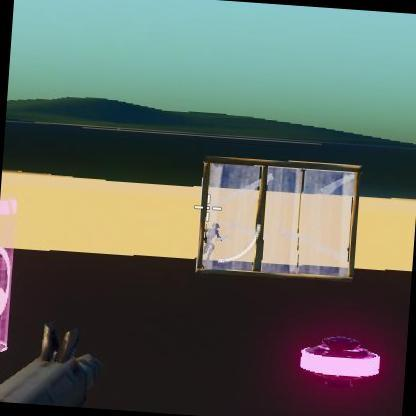person: (204, 217, 226, 266)
